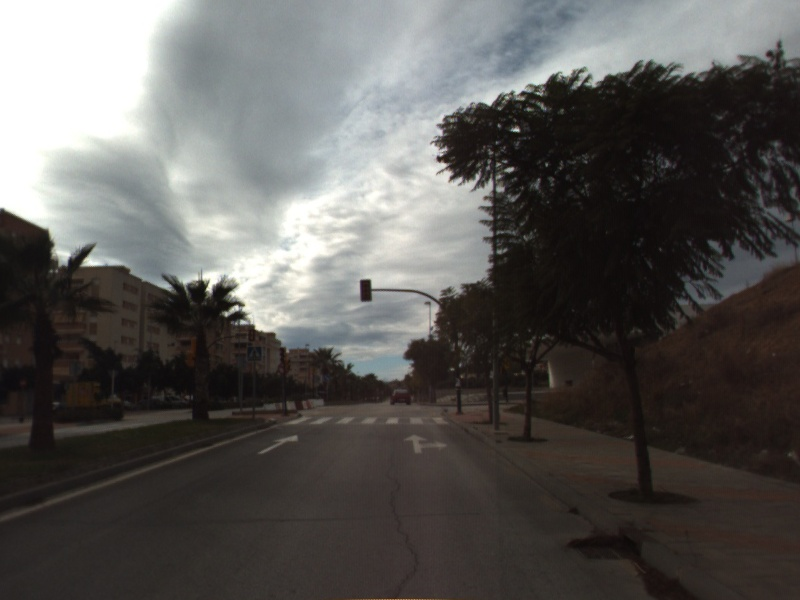STRAIGHT: (256, 433, 300, 456)
STRAIGHT_RIGHT: (402, 432, 449, 455)
